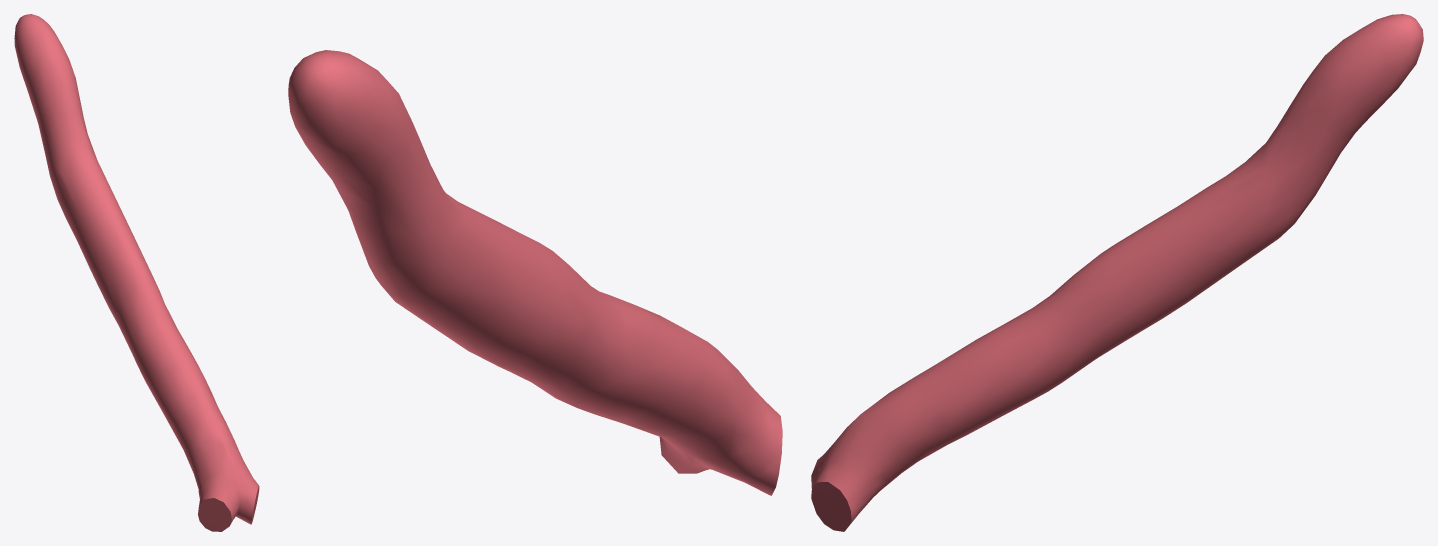
Rendered from fma50781_mm3620.glb.
3 views of the same model, side by side, from view 1: azimuth 30°, elevation 25°; view 2: azimuth 150°, elevation 25°; view 3: azimuth 270°, elevation 25° (orthographic). The views are drawn at different scales.
Parts seen in each view (by area): view 1: FMA50781_MM3620; view 2: FMA50781_MM3620; view 3: FMA50781_MM3620.
Boxes of the visible parts, <box> form: FMA50781_MM3620: <box>14,14,259,531</box>; FMA50781_MM3620: <box>288,50,782,495</box>; FMA50781_MM3620: <box>811,14,1423,531</box>.
Size of the model in its own units: 0.00517 by 0.0296 by 0.0328.
